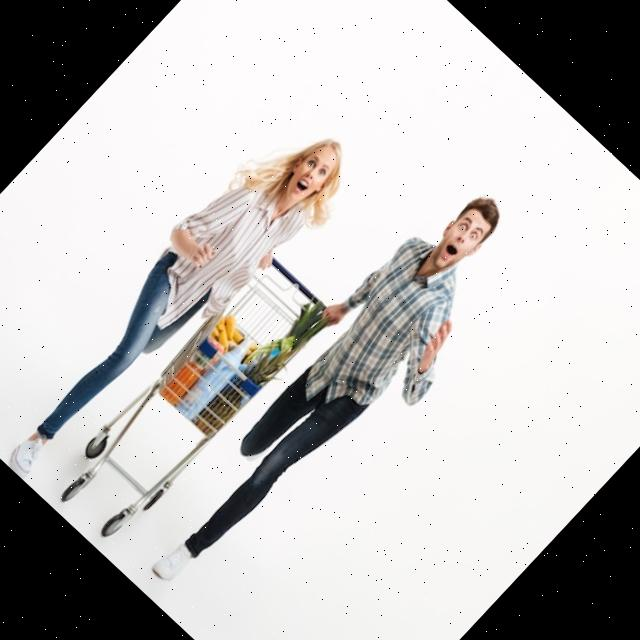Person: (113, 167, 554, 626), (0, 102, 372, 513)
